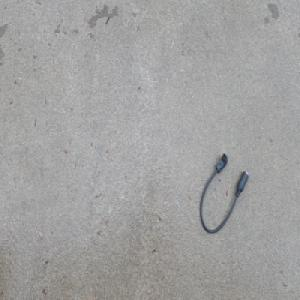Wire: (199, 152, 249, 234)
